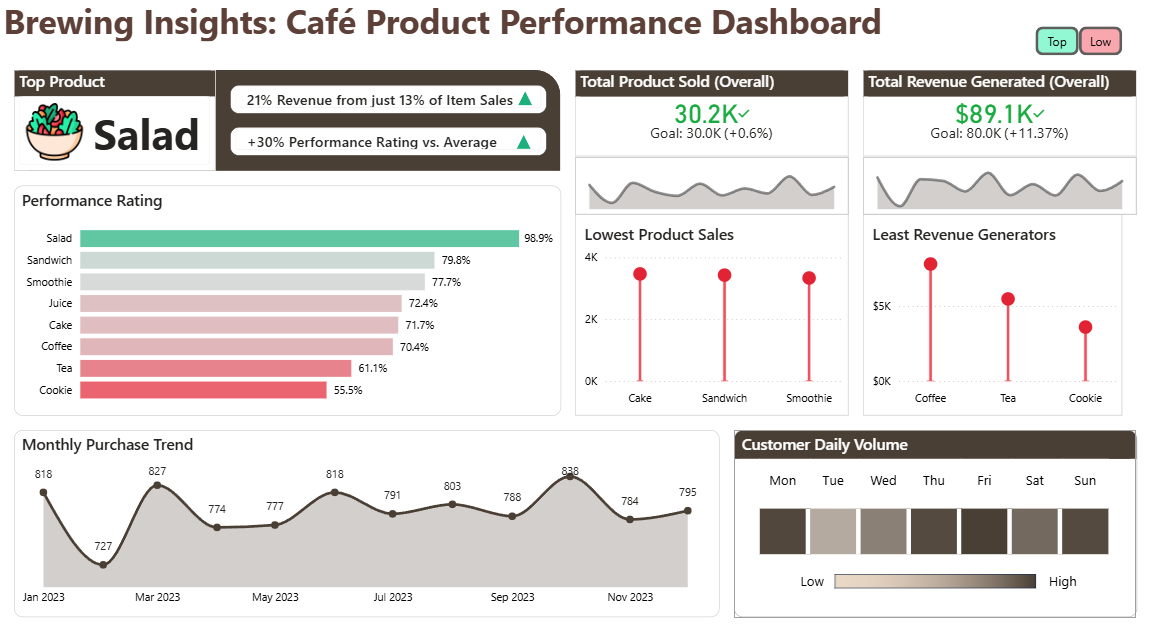

Layout of this report page (visuals, bound fields, positions):
{"tool":"powerbi","page":{"name":"Page 1","canvas":[1280,720],"ordinal":0},"visuals":[{"type":"shape","box":[32,80,592,112],"z":0},{"type":"lineChart","fields":{"Category":["cafe_sales_clean.transaction_date.Variation.Date Hierarchy.Year","cafe_sales_clean.transaction_date.Variation.Date Hierarchy.Quarter","cafe_sales_clean.transaction_date.Variation.Date Hierarchy.Month"],"Y":["Sum(cafe_sales_clean.quantity)"]},"box":[640,176,304,64],"z":1000},{"type":"lineChart","title":"Monthly Purchase Trend","fields":{"Y":["CountNonNull(cafe_sales_clean.transaction_id)"],"Category":["cafe_sales_clean.transaction_date.Variation.Date Hierarchy.Year","cafe_sales_clean.transaction_date.Variation.Date Hierarchy.Quarter","cafe_sales_clean.transaction_date.Variation.Date Hierarchy.Month"]},"box":[16,480,784,208],"z":2000},{"type":"kpi","title":"Total Product Sold (Overall)","fields":{"Goal":["cafe_sales_clean.Target Product Sales"],"TrendLine":["cafe_sales_clean.transaction_date"],"Indicator":["cafe_sales_clean.Total Products Sold"]},"box":[640,80,304,96],"z":3000},{"type":"clusteredBarChart","title":"Performance Rating","fields":{"Category":["cafe_sales_clean.item"],"Y":["cafe_sales_clean.Performance Rating"]},"box":[16,208,608,256],"z":4000},{"type":"textbox","title":"Brewing Insights: Café Product Performance Dashboard","box":[0,0,1040,48],"z":5000},{"type":"lineChart","title":"Highest Product Sales","fields":{"Y":["Sum(cafe_sales_clean.quantity)"],"Category":["cafe_sales_clean.item"]},"box":[640,240,304,224],"z":6000},{"type":"lineChart","title":"Top Revenue Generators","fields":{"Y":["Sum(cafe_sales_clean.total_spent)"],"Category":["cafe_sales_clean.item"]},"box":[960,240,304,224],"z":7000},{"type":"cardVisual","title":"Top Product","fields":{"Data":["cafe_sales_clean.Top Item"]},"box":[16,80,224,112],"z":8000},{"type":"pivotTable","title":"Customer Daily Volume","fields":{"Columns":["cafe_sales_clean.DayName"],"Values":["cafe_sales_clean.Customer Volume"]},"box":[816,480,448,208],"z":9000},{"type":"image","box":[21,116,80,64],"z":10000},{"type":"cardVisual","fields":{"Data":["cafe_sales_clean.KPI RevenueQty Line"]},"box":[256,96,352,32],"z":11000},{"type":"shape","box":[576,104,16,16],"z":12000},{"type":"image","box":[928,640,224,16],"z":13000},{"type":"textbox","box":[882,632,336,48],"z":14000},{"type":"actionButton","title":"Top Performer","box":[1152,32,48,32],"z":17000},{"type":"actionButton","title":"Low Performer","box":[1200,32,48,32],"z":18000},{"type":"lineChart","fields":{"Category":["cafe_sales_clean.transaction_date.Variation.Date Hierarchy.Year","cafe_sales_clean.transaction_date.Variation.Date Hierarchy.Quarter","cafe_sales_clean.transaction_date.Variation.Date Hierarchy.Month"],"Y":["Sum(cafe_sales_clean.total_spent)"]},"box":[960,176,304,64],"z":19000},{"type":"cardVisual","fields":{"Data":["cafe_sales_clean.KPI Performance Line"]},"box":[256,144,352,32],"z":20000},{"type":"shape","box":[575,151,16,16],"z":21000},{"type":"kpi","title":"Total Revenue Generated (Overall)","fields":{"TrendLine":["cafe_sales_clean.transaction_date"],"Indicator":["cafe_sales_clean.Total Revenue Generated"],"Goal":["cafe_sales_clean.Target Revenue"]},"box":[960,80,304,96],"z":22000}]}

Visuals, with their boxes in screenshot pixels (x1, y1, x2, y2), scaled from the page's 1280x720 canvas onto the 1150x636 screenshot:
shape: bbox(29, 71, 561, 170)
lineChart - cafe_sales_clean.transaction_date.Variation.Date Hierarchy.Year x cafe_sales_clean.transaction_date.Variation.Date Hierarchy.Quarter: bbox(575, 155, 848, 212)
"Monthly Purchase Trend" lineChart: bbox(14, 424, 719, 608)
"Total Product Sold (Overall)" kpi: bbox(575, 71, 848, 155)
"Performance Rating" clusteredBarChart: bbox(14, 184, 561, 410)
"Brewing Insights: Café Product Performance Dashboard" textbox: bbox(0, 0, 934, 42)
"Highest Product Sales" lineChart: bbox(575, 212, 848, 410)
"Top Revenue Generators" lineChart: bbox(862, 212, 1136, 410)
"Top Product" cardVisual: bbox(14, 71, 216, 170)
"Customer Daily Volume" pivotTable: bbox(733, 424, 1136, 608)
image: bbox(19, 102, 91, 159)
cardVisual - cafe_sales_clean.KPI RevenueQty Line: bbox(230, 85, 546, 113)
shape: bbox(518, 92, 532, 106)
image: bbox(834, 565, 1035, 579)
textbox: bbox(792, 558, 1094, 601)
"Top Performer" actionButton: bbox(1035, 28, 1078, 57)
"Low Performer" actionButton: bbox(1078, 28, 1121, 57)
lineChart - cafe_sales_clean.transaction_date.Variation.Date Hierarchy.Year x cafe_sales_clean.transaction_date.Variation.Date Hierarchy.Quarter: bbox(862, 155, 1136, 212)
cardVisual - cafe_sales_clean.KPI Performance Line: bbox(230, 127, 546, 155)
shape: bbox(517, 133, 531, 148)
"Total Revenue Generated (Overall)" kpi: bbox(862, 71, 1136, 155)
